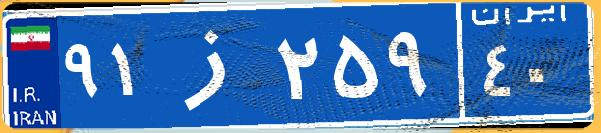0: (525, 38, 570, 115)
1: (110, 28, 158, 105)
2: (273, 28, 330, 110)
4: (475, 38, 525, 113)
5: (330, 28, 385, 110)
9: (385, 28, 445, 110), (57, 26, 110, 107)
ز: (158, 15, 273, 115)
